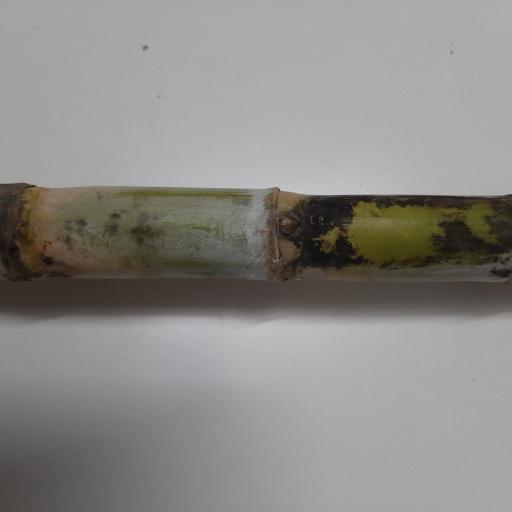Bud: (274, 212, 300, 236)
